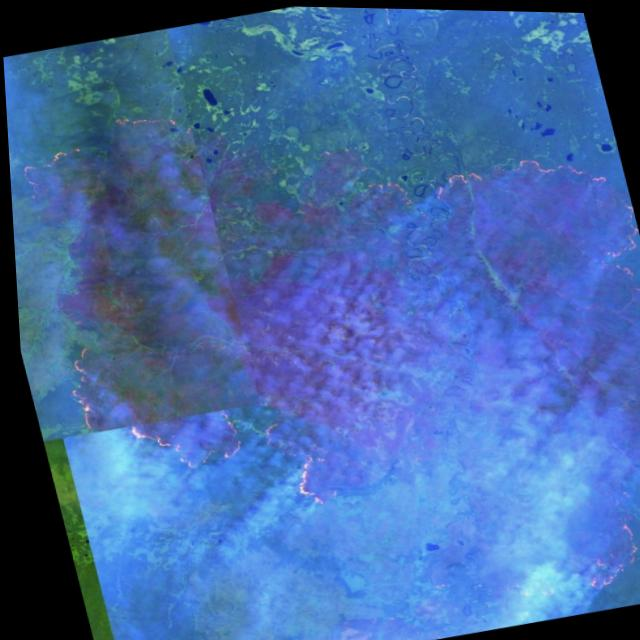fire: (52, 298, 346, 547), (357, 128, 640, 341), (4, 94, 210, 199), (465, 507, 640, 630)
